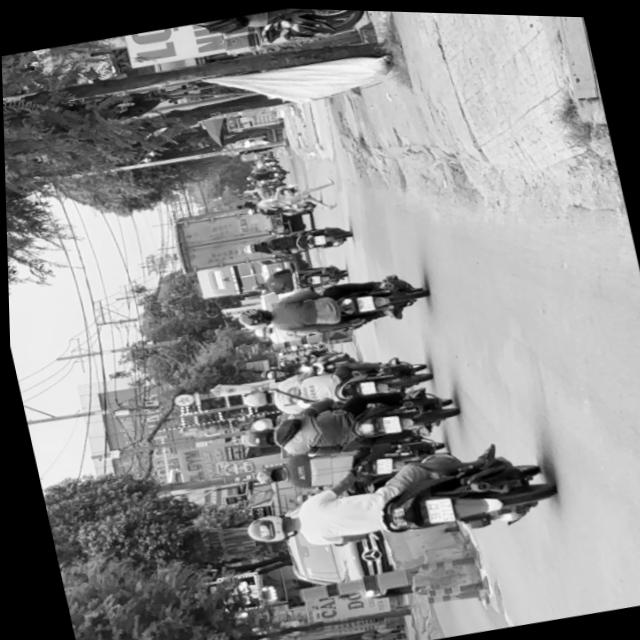helmet: (240, 509, 297, 548), (234, 426, 272, 452), (232, 306, 270, 330), (250, 464, 281, 487)
licenseplate: (229, 427, 557, 577), (230, 376, 459, 472), (228, 263, 430, 353), (245, 422, 447, 503)
nohelmet: (420, 494, 452, 523), (376, 414, 398, 433), (370, 455, 392, 474), (353, 294, 373, 311)
